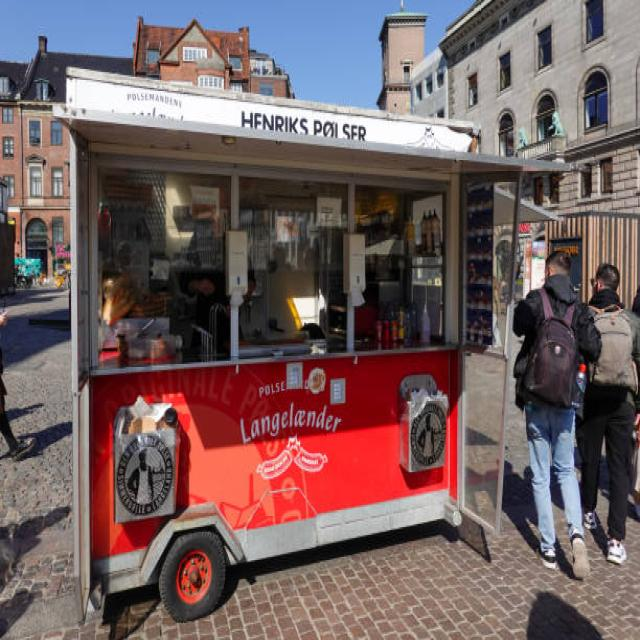Emperan: (45, 48, 598, 636)
